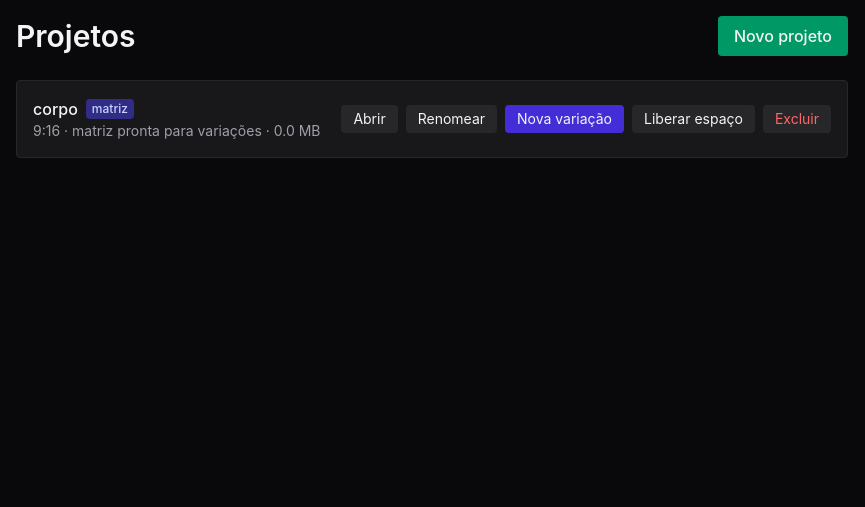
RecordedWizard — matriz de variações de hook › projeto matriz mostra só Upload/Cortes/Transcrição/Textos
The image size is (865, 507).
Click the button with aria-label "abrir corpo": point(370, 119) top-left (341, 105), bottom-right (398, 133)
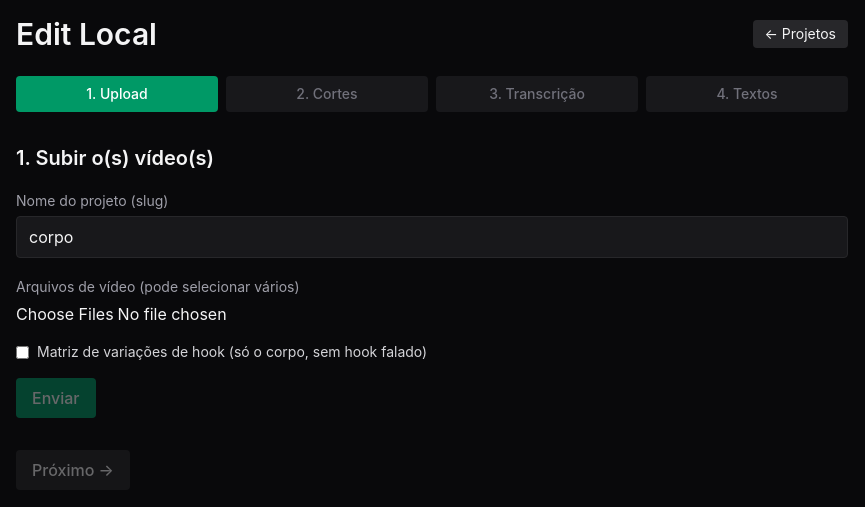
Now the button "1. Upload" is shown, box top-left (16, 76), bottom-right (218, 112)
Now the button "2. Cortes" is shown, box top-left (226, 76), bottom-right (428, 112)
Now the button "3. Transcrição" is shown, box top-left (436, 76), bottom-right (638, 112)
